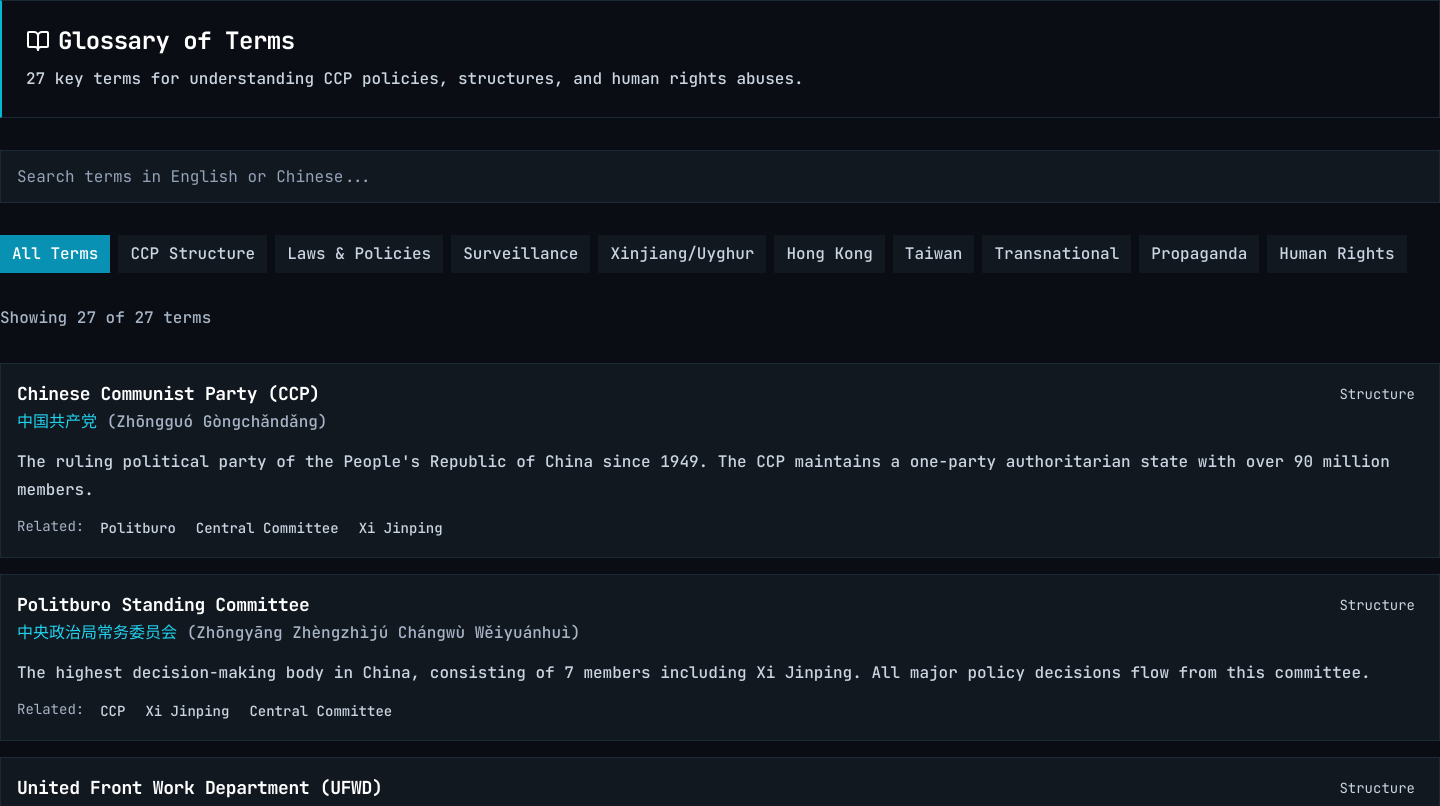
Scenario: GlossaryTerms › filters terms by Chinese character search
This screenshot has width=1440, height=806.
Type "国家安全法" into the field with placeholder "Search terms in English or Chinese...".
click(720, 177); type("国家安全法")  # box [0, 150, 1439, 203]
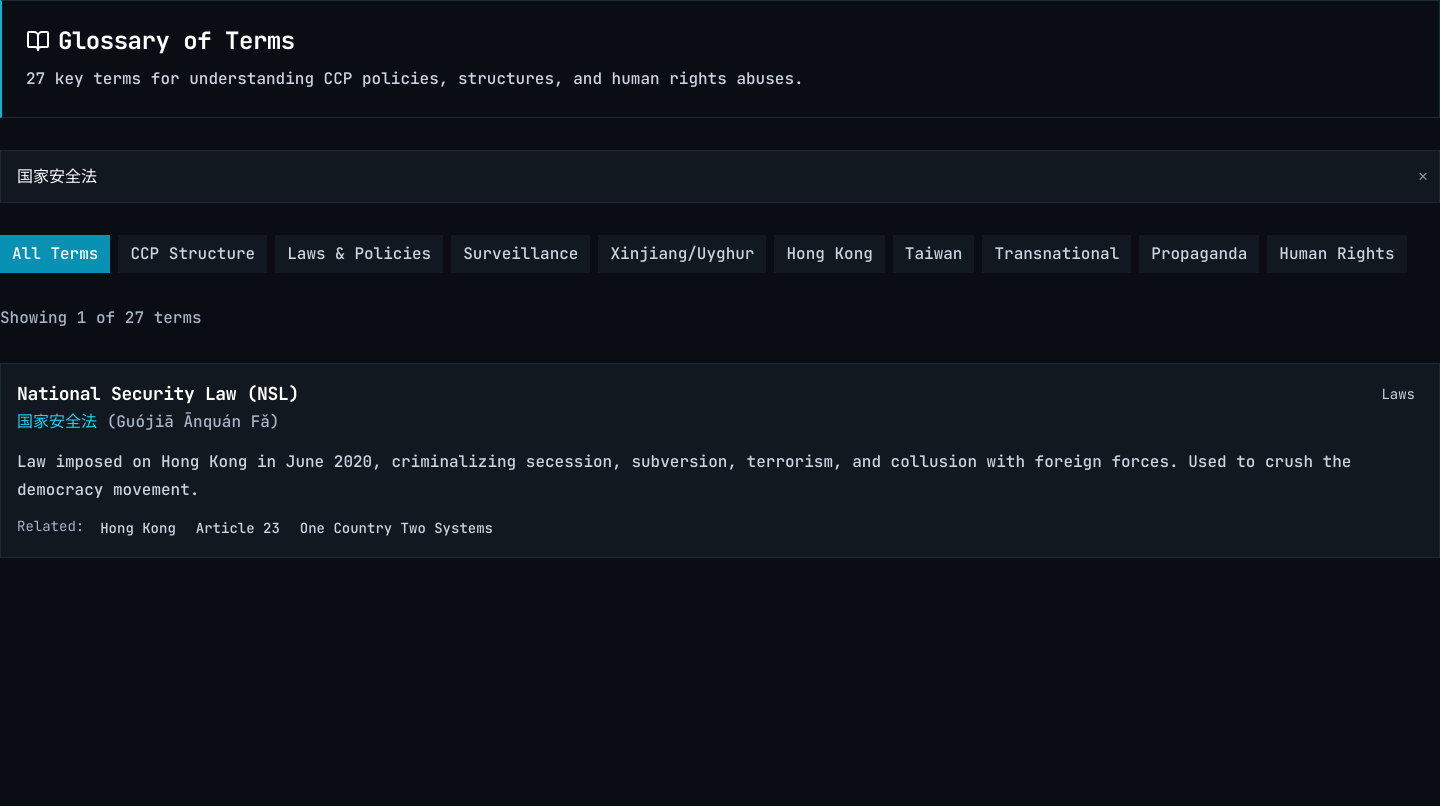
Check: the heading "National Security Law (NSL)" is shown, box [17, 380, 299, 408]
